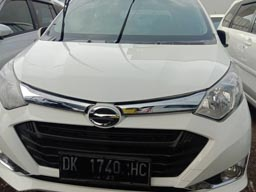plat: (58, 153, 150, 175)
